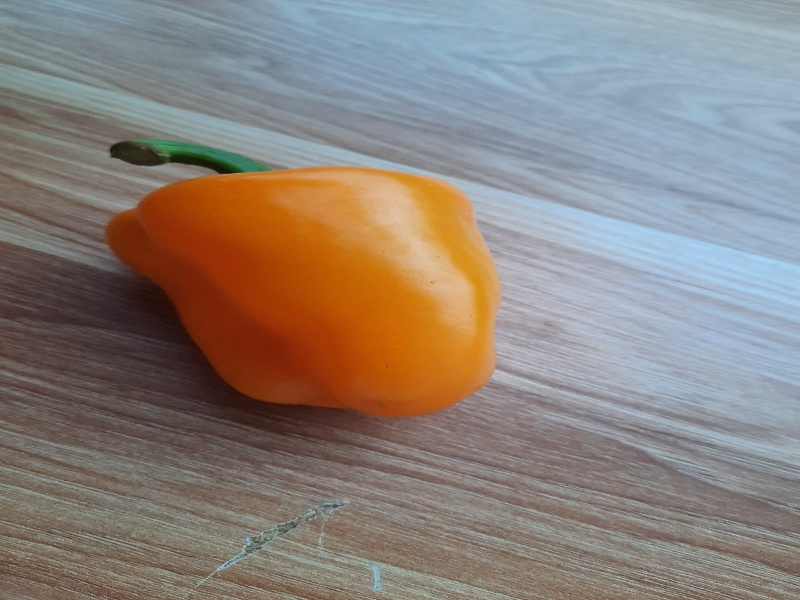vege: (90, 108, 512, 421)
